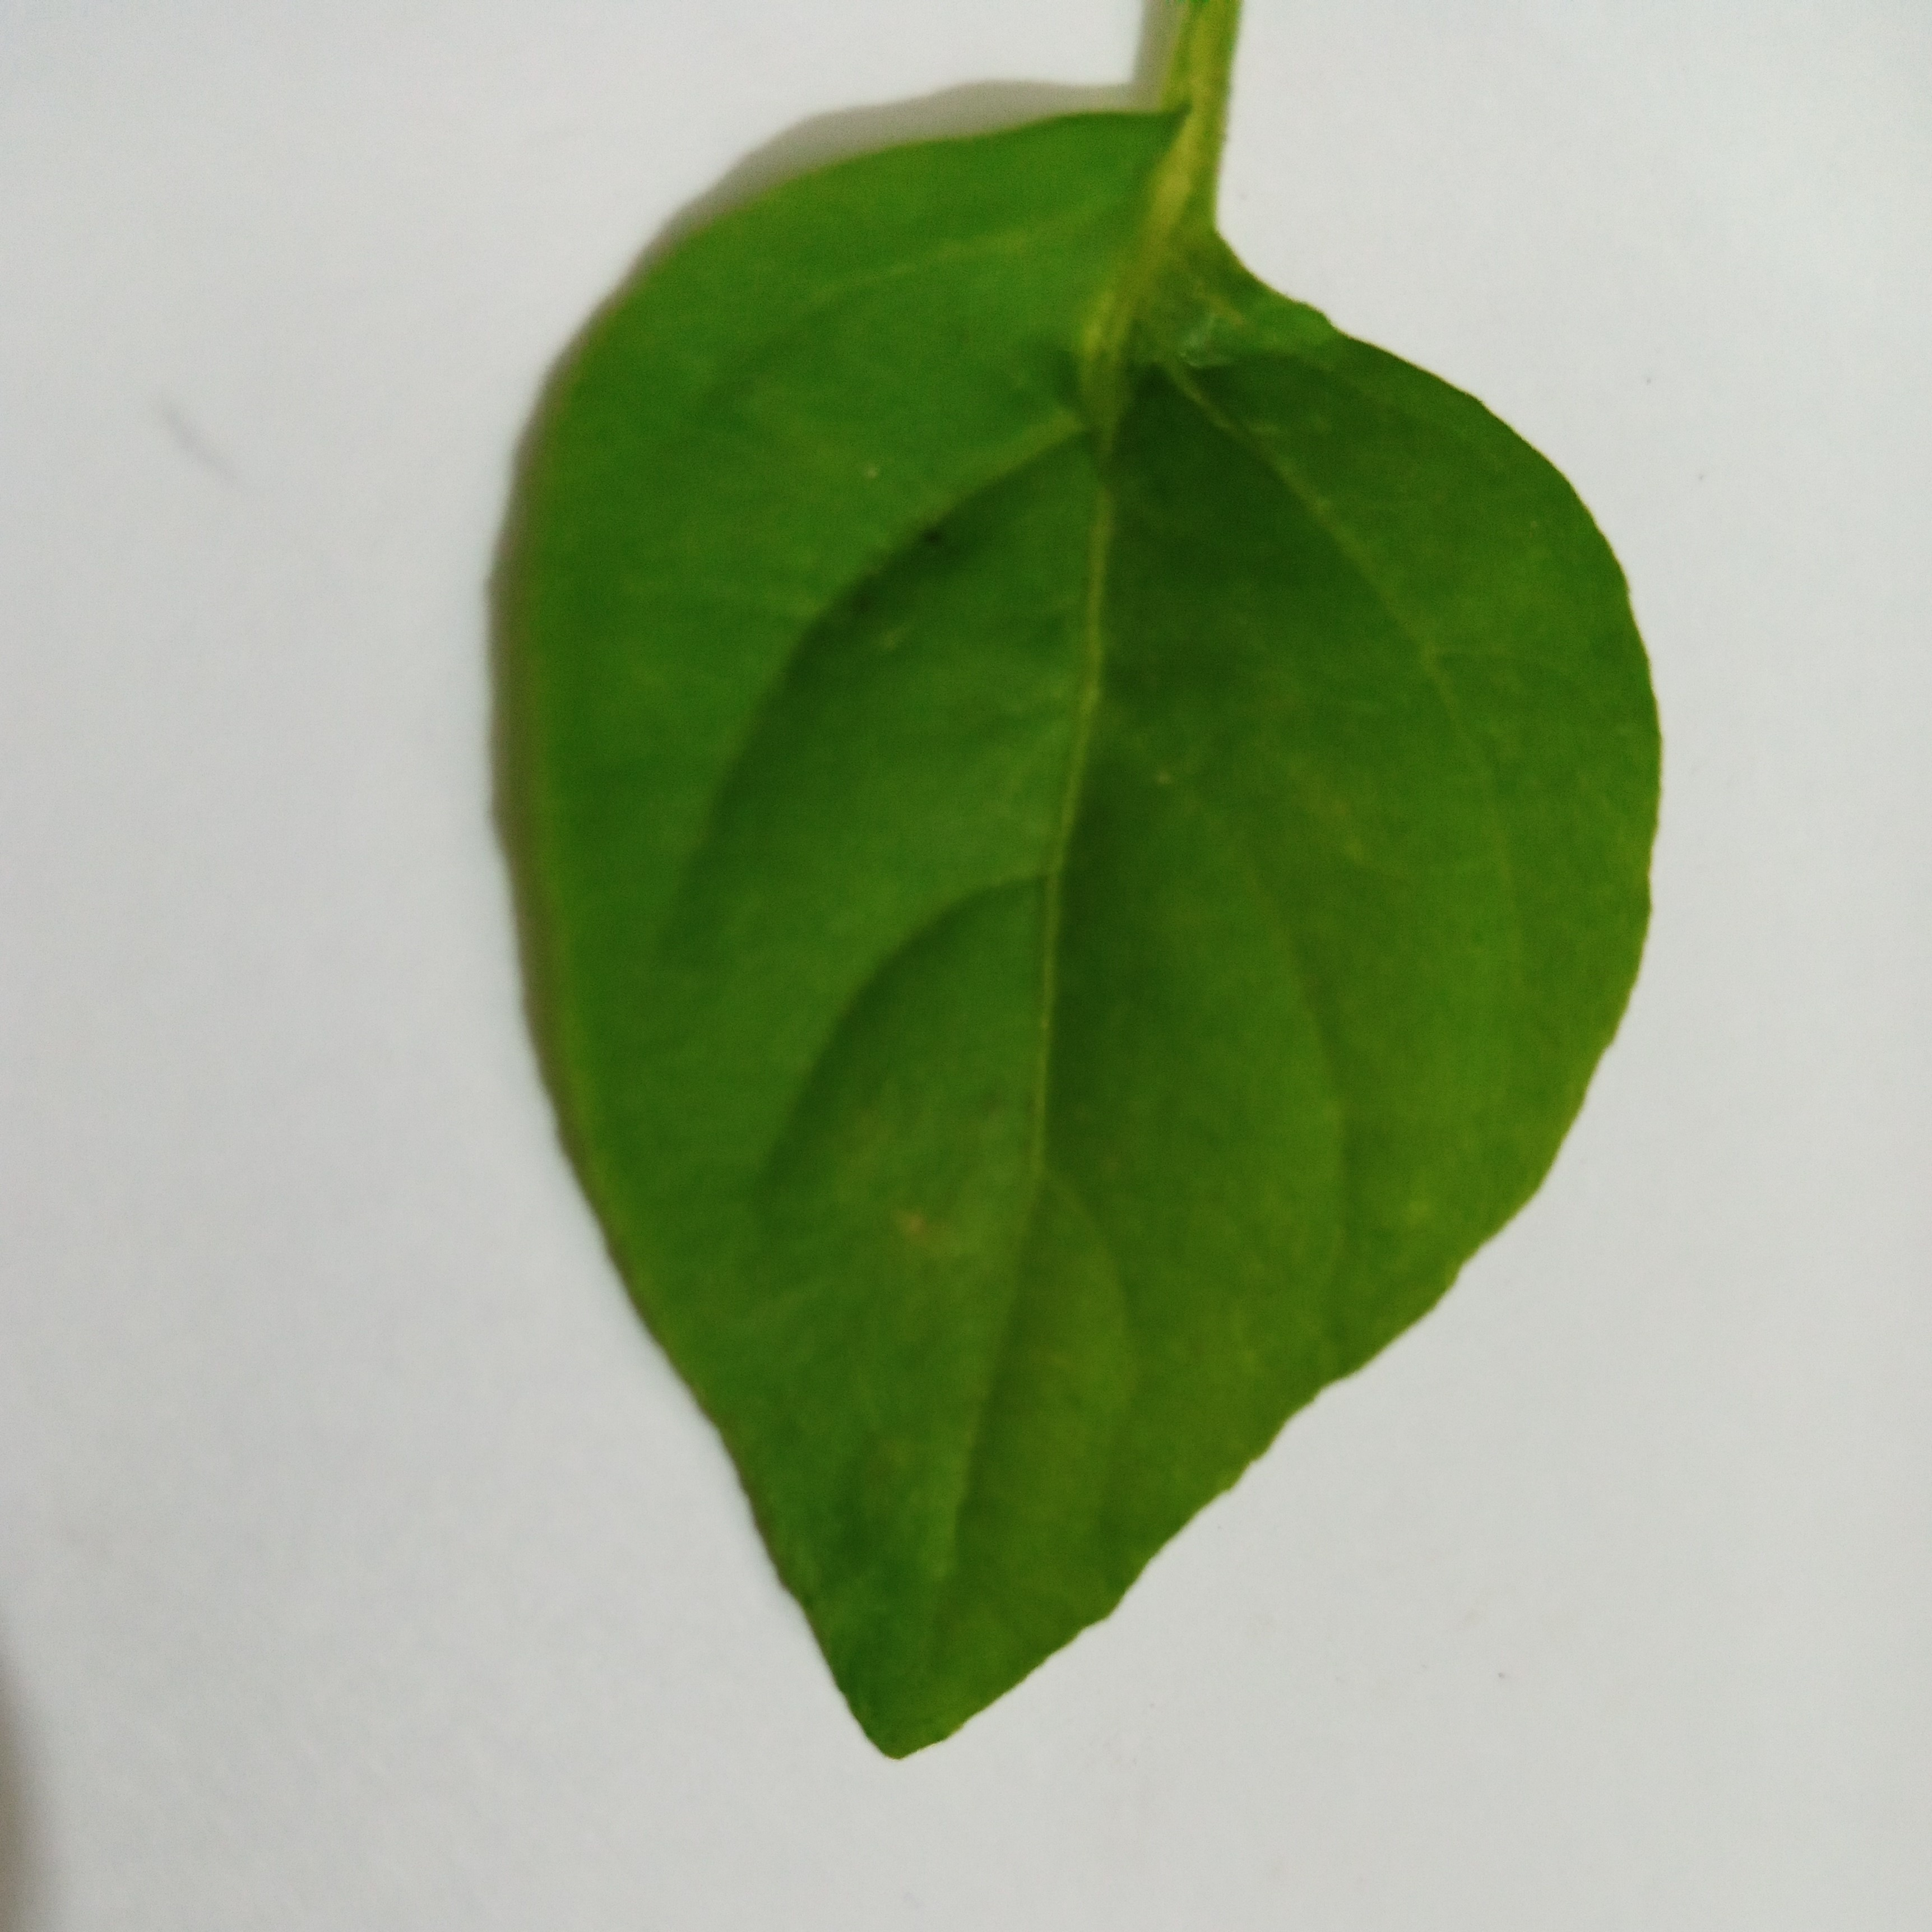Leaf: (269, 90, 1711, 1810)
